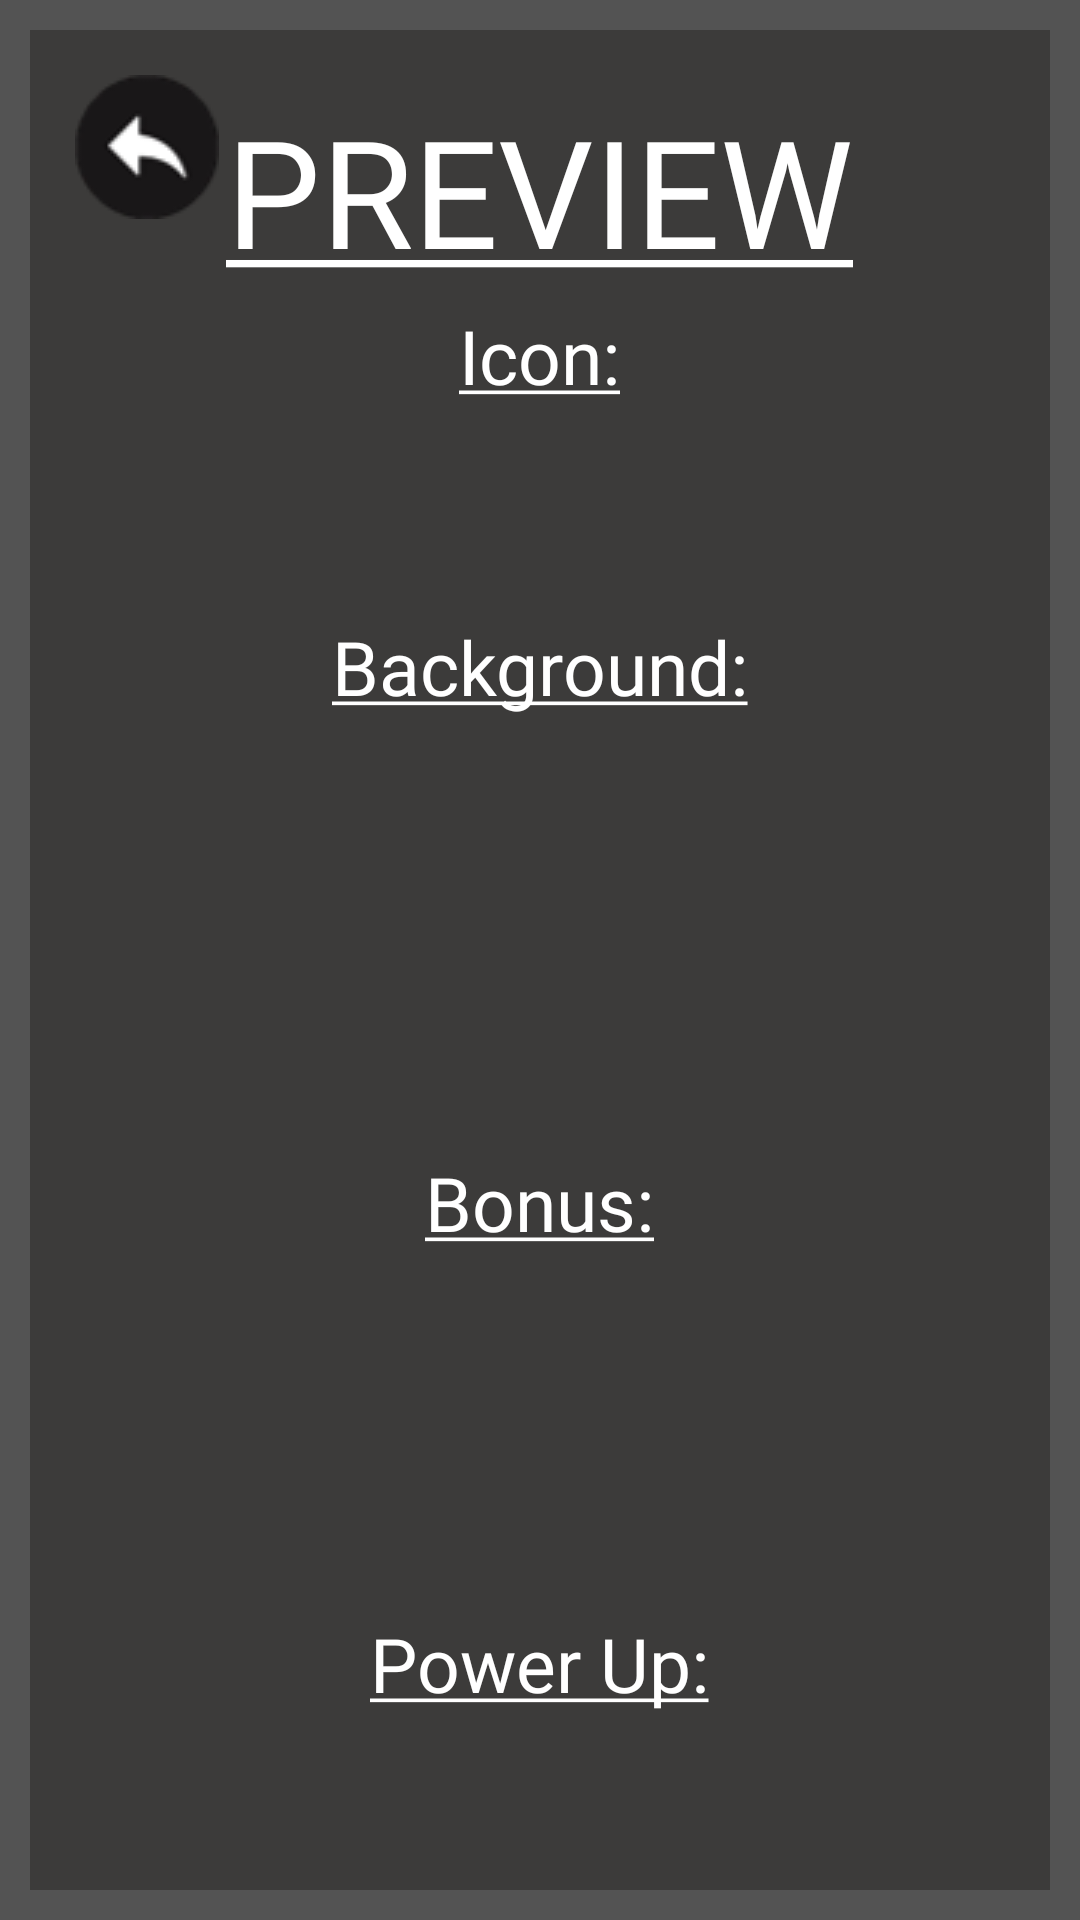

Screen size 1080px x 1920px. Icon name, then its center in pixels as (x=x, y=y):
go back: (x=148, y=147)
